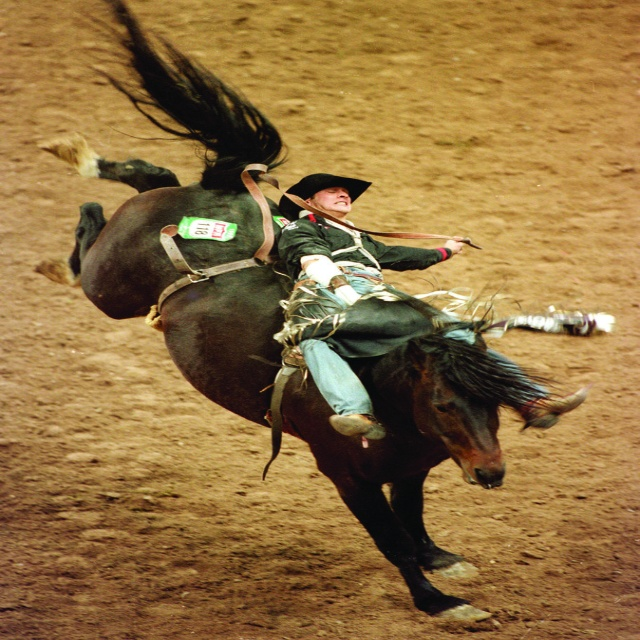Horse: (31, 0, 570, 633)
